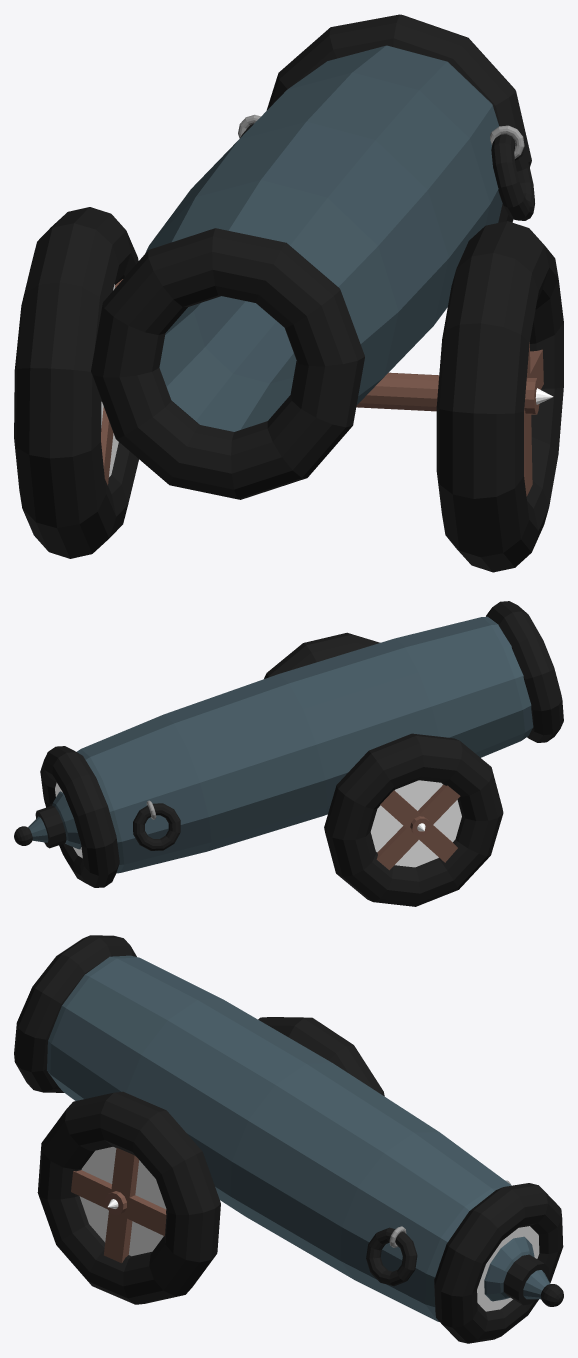
Rendered from Canon.fbx.
The picture shows the model from 3 angles, top to bottom: view 1: azimuth 30°, elevation 25°; view 2: azimuth 150°, elevation 25°; view 3: azimuth 270°, elevation 25°; orthographic projection. The views are drawn at different scales.
Parts seen in each view (by area): view 1: mesh_567367277, mesh_1916525985, mesh_1484648461, mesh_1769612597, mesh_1025725996, mesh_1121268527, mesh_1974329050, mesh_1927299108; view 2: mesh_567367277, mesh_1769612597, mesh_1025725996, mesh_1916525985, mesh_1397868754, mesh_1484648461, mesh_1623987269, mesh_1367972897, mesh_495006279, mesh_790048783, mesh_387056721; view 3: mesh_567367277, mesh_1484648461, mesh_1025725996, mesh_1916525985, mesh_992478481, mesh_1769612597, mesh_1927299108, mesh_1966153578, mesh_1121268527, mesh_387056721, mesh_790048783, mesh_481917039 (+1 smaller).
Part boxes in pixels (x1,y1,x2,y2): mesh_567367277: (145, 45, 502, 431); mesh_1916525985: (91, 228, 364, 499); mesh_1484648461: (436, 221, 563, 572); mesh_1769612597: (14, 207, 138, 558); mesh_1025725996: (266, 14, 531, 222); mesh_1121268527: (491, 134, 534, 220); mesh_1974329050: (356, 372, 439, 411); mesh_1927299108: (524, 342, 532, 496); mesh_567367277: (77, 616, 533, 873); mesh_1769612597: (324, 733, 503, 906); mesh_1025725996: (40, 746, 119, 887); mesh_1916525985: (486, 601, 563, 742); mesh_1397868754: (370, 780, 461, 867); mesh_1484648461: (264, 632, 380, 678); mesh_1623987269: (376, 784, 460, 870); mesh_1367972897: (380, 790, 457, 862); mesh_495006279: (133, 803, 180, 850); mesh_790048783: (35, 805, 66, 848); mesh_387056721: (52, 791, 81, 849); mesh_567367277: (47, 955, 511, 1321); mesh_1484648461: (37, 1091, 220, 1304); mesh_1025725996: (434, 1183, 563, 1343); mesh_1916525985: (14, 935, 136, 1092); mesh_992478481: (79, 1147, 166, 1256); mesh_1769612597: (258, 1017, 384, 1096); mesh_1927299108: (104, 1147, 138, 1263); mesh_1966153578: (71, 1170, 166, 1236); mesh_1121268527: (366, 1227, 417, 1286); mesh_387056721: (484, 1236, 534, 1301); mesh_790048783: (503, 1254, 549, 1305); mesh_481917039: (477, 1226, 539, 1311).
Size of the model in its own units: 43.28 by 25.97 by 46.67.
